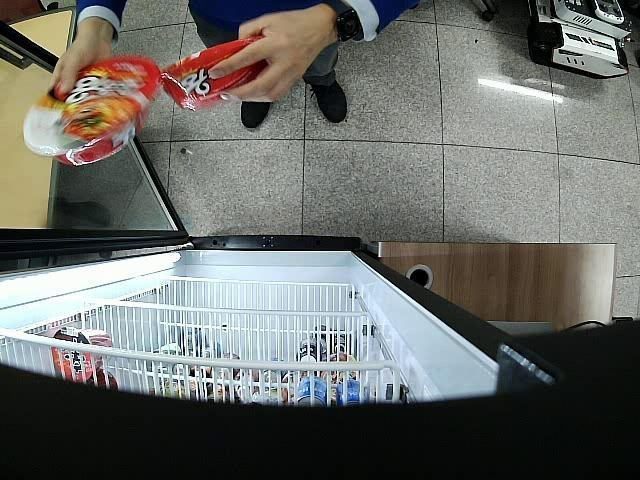10_wangTtukkeong: (23, 57, 162, 167), (161, 35, 267, 110)
